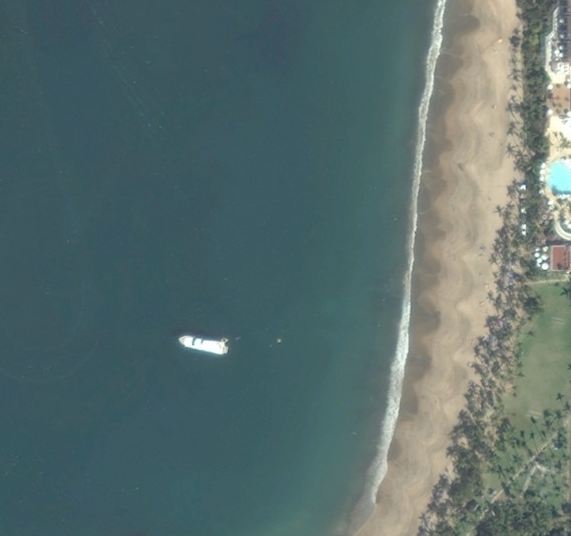ship: (175, 330, 232, 359)
